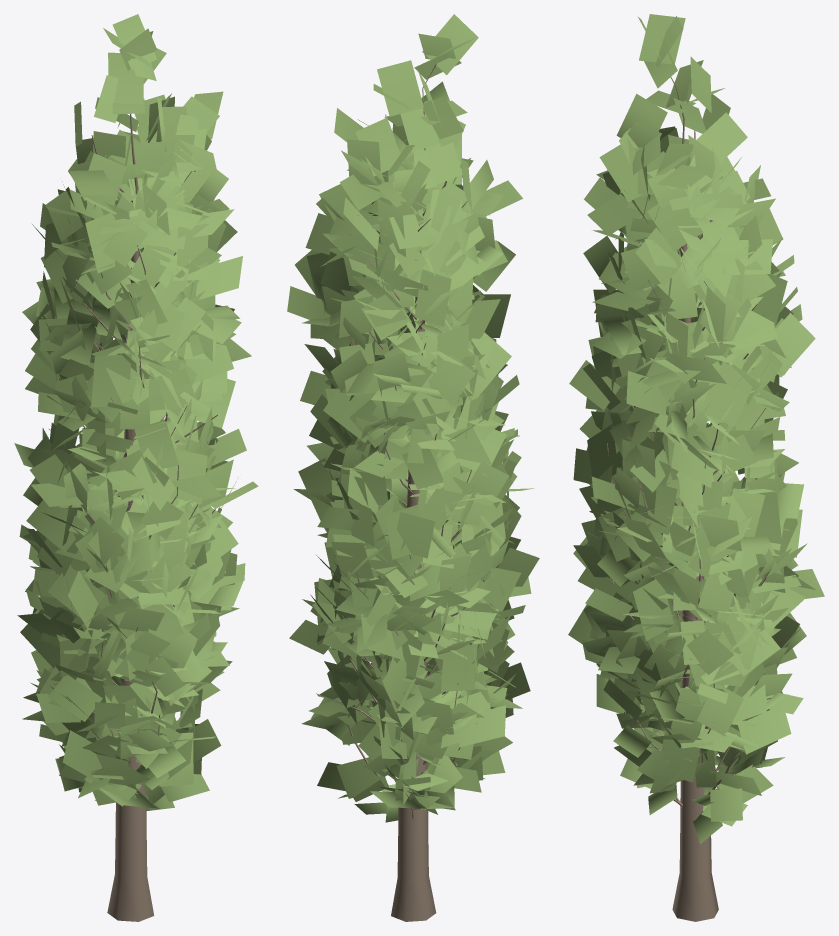
The model's file is Poplar_2_lod1.glb.
3 renders of one model, left to right at view 1: azimuth 30°, elevation 25°; view 2: azimuth 150°, elevation 25°; view 3: azimuth 270°, elevation 25°, orthographic. The views are drawn at different scales.
Visible parts, largest first — view 1: Poplar_2_lod1; view 2: Poplar_2_lod1; view 3: Poplar_2_lod1.
Part boxes in pixels (x1,y1,x2,y2): Poplar_2_lod1: [14, 14, 258, 921]; Poplar_2_lod1: [287, 14, 539, 921]; Poplar_2_lod1: [568, 14, 824, 921].
Size of the model in its own units: 5.96 by 23.47 by 6.14.
